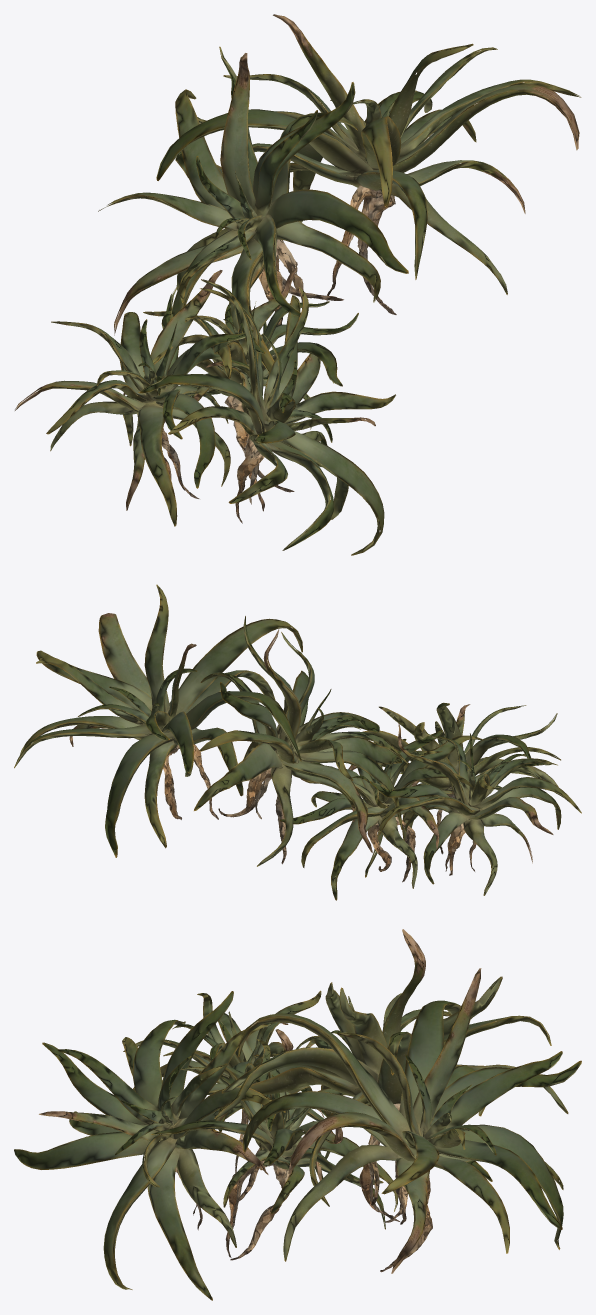
Rendered from quiver1-leaf.glb.
3 renders of one model, top to bottom at view 1: azimuth 30°, elevation 25°; view 2: azimuth 150°, elevation 25°; view 3: azimuth 270°, elevation 25°, orthographic. The views are drawn at different scales.
Parts seen in each view (by area): view 1: quiver_tree_01; view 2: quiver_tree_01; view 3: quiver_tree_01.
Part boxes in pixels (left/top/right/bottom): quiver_tree_01: left=15, top=14, right=581, bottom=555; quiver_tree_01: left=14, top=584, right=581, bottom=900; quiver_tree_01: left=14, top=929, right=581, bottom=1300.
Size of the model in its own units: 2.01 by 1.21 by 1.65.
Materials: 1 (1 with a texture image).
